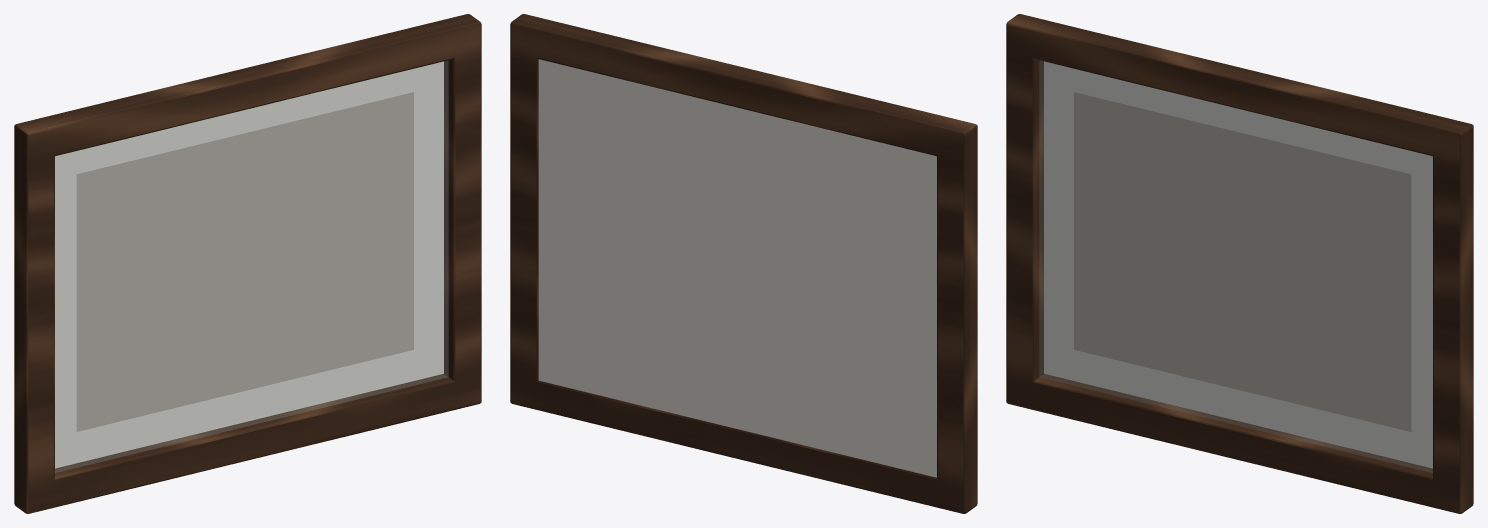
Rendered from PH_FramedPicture.glb.
The picture shows the model from 3 angles, left to right: view 1: azimuth 30°, elevation 25°; view 2: azimuth 150°, elevation 25°; view 3: azimuth 330°, elevation 25°; orthographic projection.
Parts seen in each view (by area): view 1: PH_Frame_Glass, PH_Frame_Art, PH_Frame_Moulding, PH_Frame_Backing; view 2: PH_Frame_Backing, PH_Frame_Moulding; view 3: PH_Frame_Glass, PH_Frame_Art, PH_Frame_Moulding, PH_Frame_Backing.
Boxes of the visible parts, box(x1,y1,x2,y2) form: PH_Frame_Glass: box(55, 61, 448, 472); PH_Frame_Art: box(76, 92, 413, 431); PH_Frame_Moulding: box(14, 14, 481, 513); PH_Frame_Backing: box(55, 61, 443, 468); PH_Frame_Backing: box(538, 59, 936, 477); PH_Frame_Moulding: box(510, 14, 977, 513); PH_Frame_Glass: box(1039, 61, 1432, 472); PH_Frame_Art: box(1074, 92, 1411, 431); PH_Frame_Moulding: box(1006, 14, 1473, 513); PH_Frame_Backing: box(1044, 61, 1432, 468).
Bounding box in the file's own units: 0.5 × 0.4 × 0.025.
4 materials, 1 textured.
